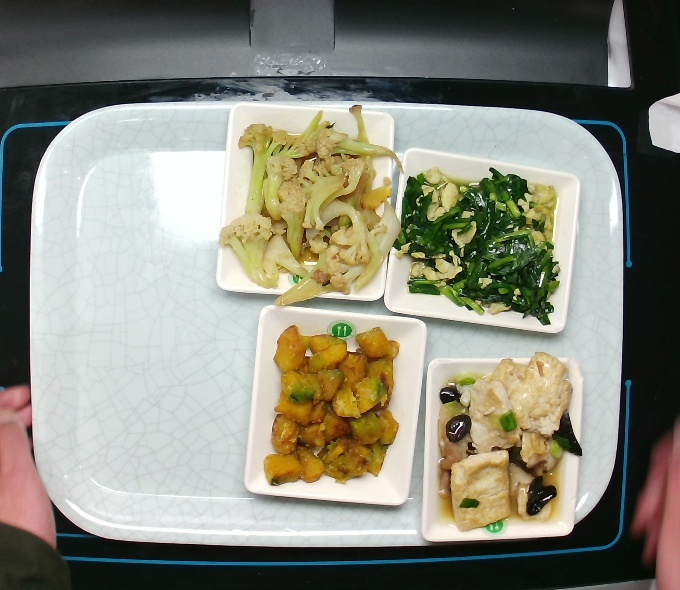wcq-DanHuangNanGua: (254, 321, 405, 490)
wcq-JiaChangDouFu: (411, 351, 585, 532)
wcq-JiuCaiJiDan: (390, 162, 570, 335)
wcq-QiuCai: (218, 104, 408, 302)
